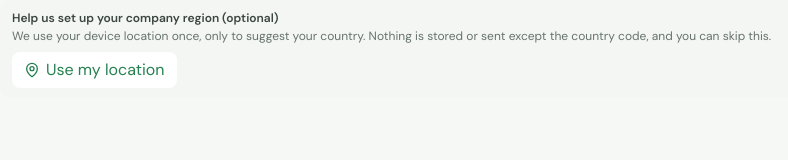
Scenario: RegionalLocationOptIn › keeps only the resolved country in memory after consent
Step 1. Click the button "Use my location" → (94, 70), box [12,52,176,88]
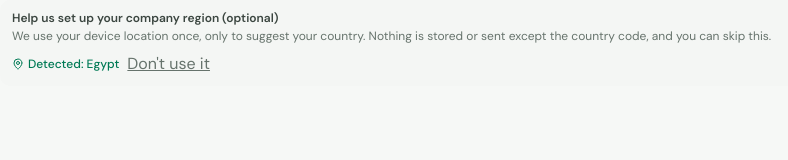
Expected: the message shows "Egypt", [28,56,119,72]
